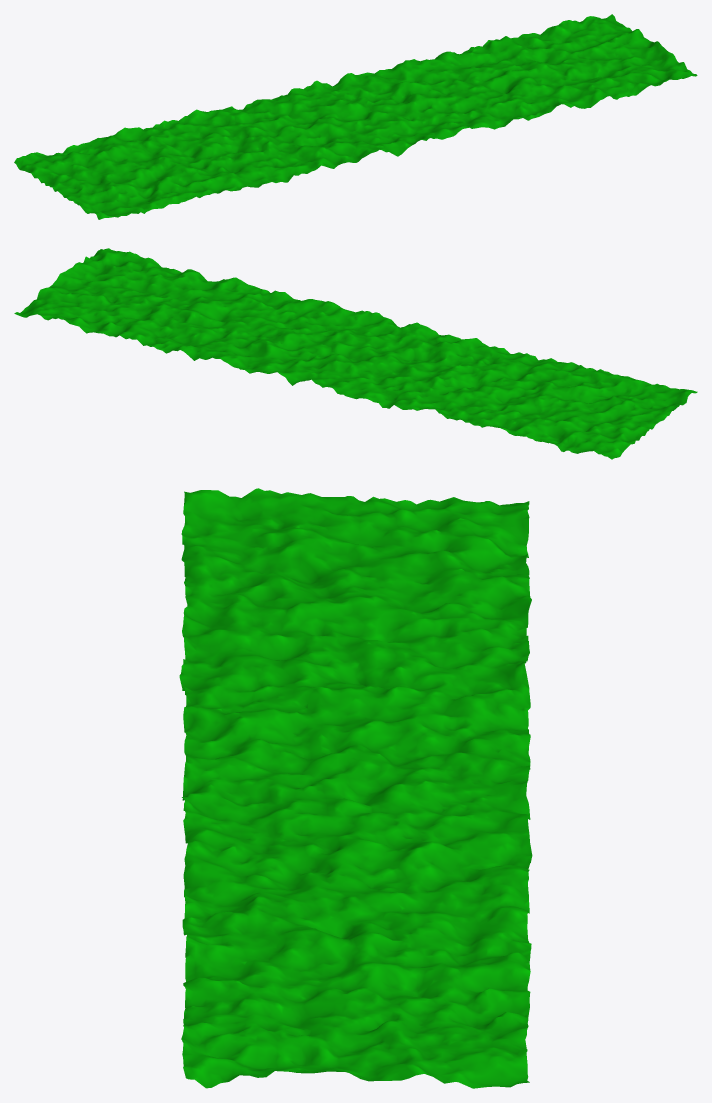
Rendered from terrain.glb.
The picture shows the model from 3 angles, top to bottom: view 1: azimuth 30°, elevation 25°; view 2: azimuth 150°, elevation 25°; view 3: azimuth 270°, elevation 25°; orthographic projection. The views are drawn at different scales.
Visible parts, largest first — view 1: terrain; view 2: terrain; view 3: terrain.
Boxes of the visible parts, x1=… form: terrain: x1=14, y1=14, x2=697, y2=219; terrain: x1=14, y1=248, x2=697, y2=459; terrain: x1=179, y1=488, x2=532, y2=1088.
Size of the model in its own units: 4019 by 86.01 by 1025.
